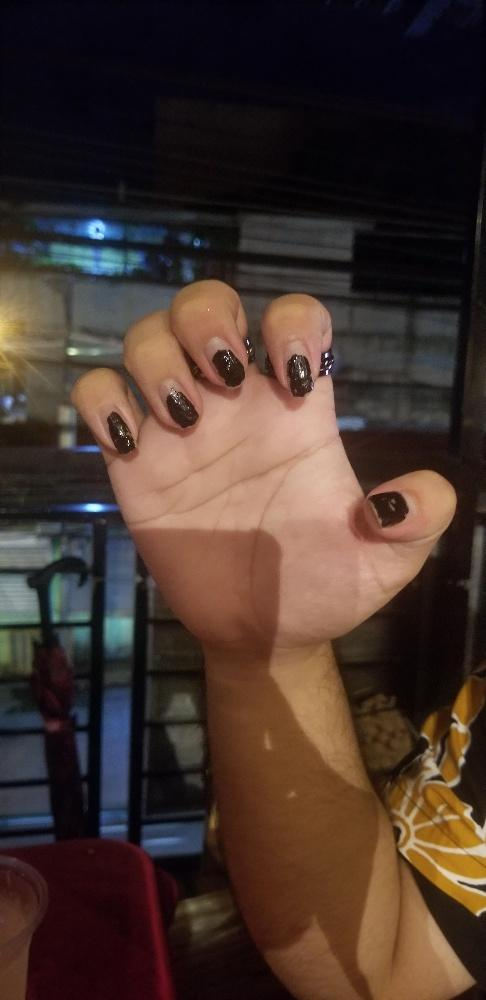e: (76, 275, 457, 653)
